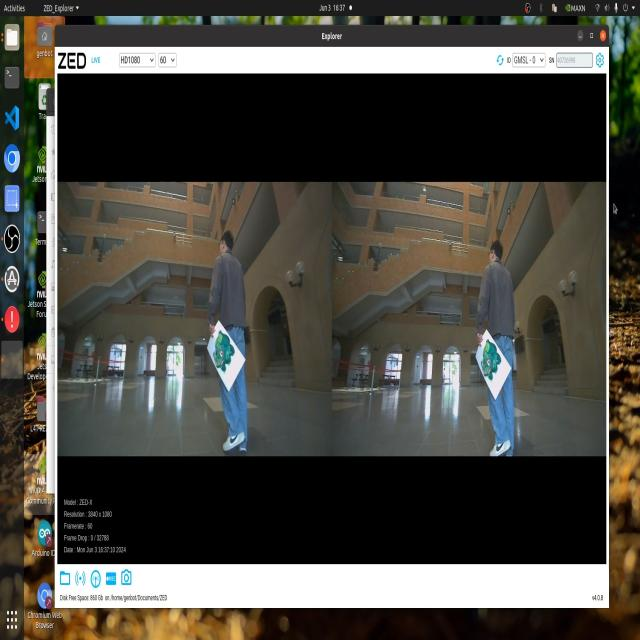green: (479, 339, 503, 382), (214, 332, 234, 374)
